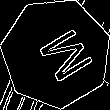M_SW: (23, 20, 89, 86)
